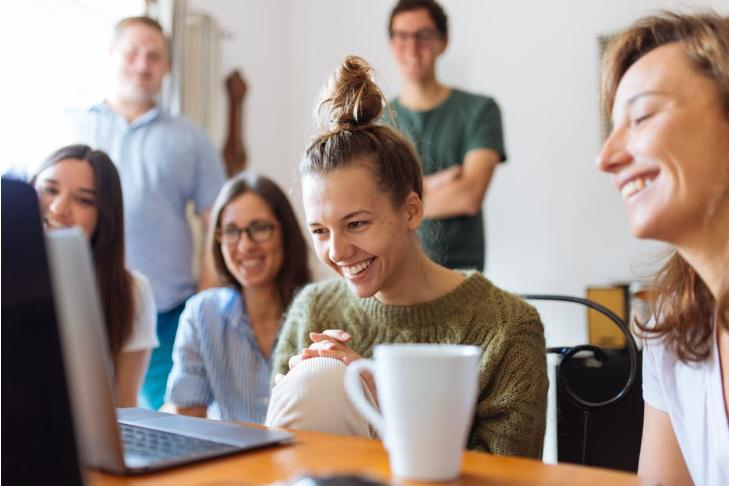face: (596, 48, 717, 240), (304, 170, 392, 297)
